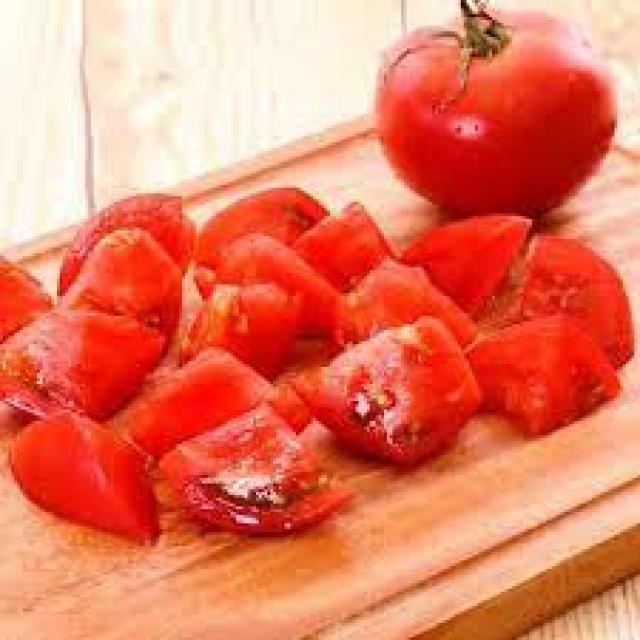Tomato: (363, 2, 638, 231), (156, 402, 357, 548), (304, 315, 488, 471), (0, 302, 171, 430), (464, 312, 626, 442), (6, 409, 158, 546), (501, 229, 638, 367), (180, 234, 308, 381), (47, 188, 207, 300), (50, 224, 195, 345), (396, 210, 534, 312), (292, 194, 394, 299), (202, 173, 329, 251)
